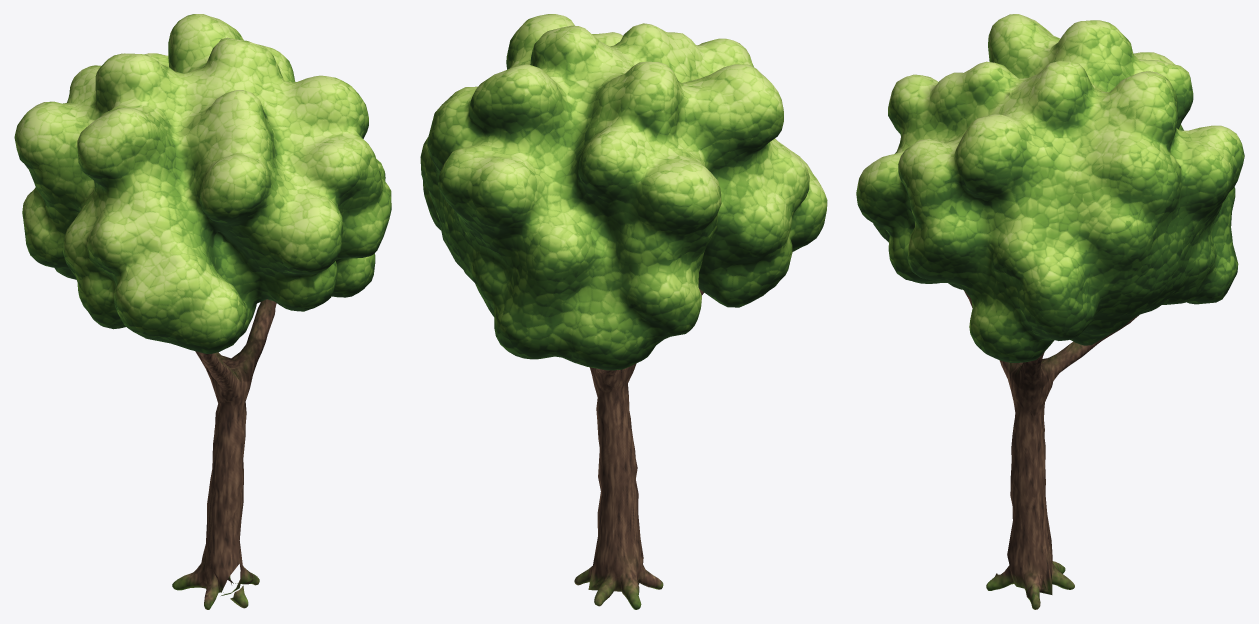
File: tree_broadleaf_large.glb
The picture shows the model from 3 angles, left to right: view 1: azimuth 30°, elevation 25°; view 2: azimuth 150°, elevation 25°; view 3: azimuth 270°, elevation 25°; orthographic projection. The views are drawn at different scales.
Visible parts, largest first — view 1: tree_broadleaf_large; view 2: tree_broadleaf_large; view 3: tree_broadleaf_large.
Boxes of the visible parts, x1,y1,x2,y2 form: tree_broadleaf_large: (14,14,391,609); tree_broadleaf_large: (420,14,827,609); tree_broadleaf_large: (856,14,1244,609).
Bounding box in the file's own units: 6.12 × 9.62 × 6.25.
1 material, 1 textured.
